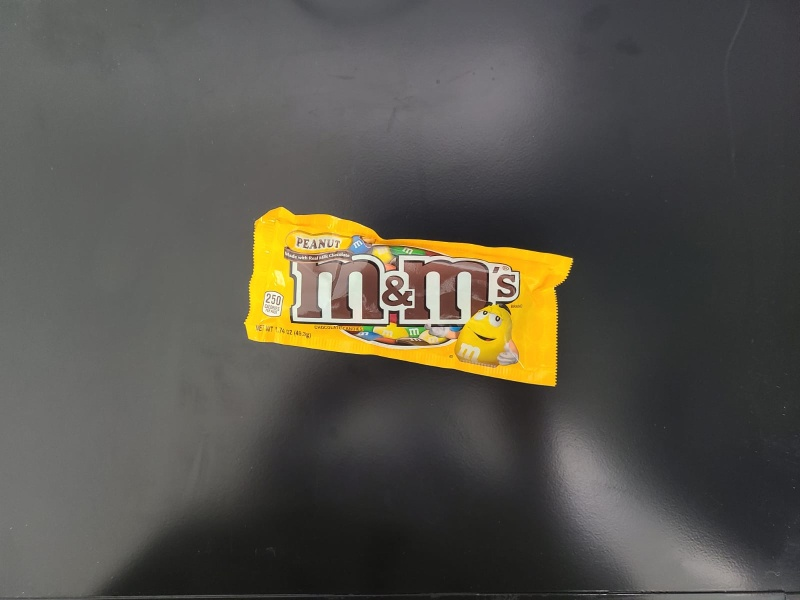m&m: (245, 205, 577, 390)
